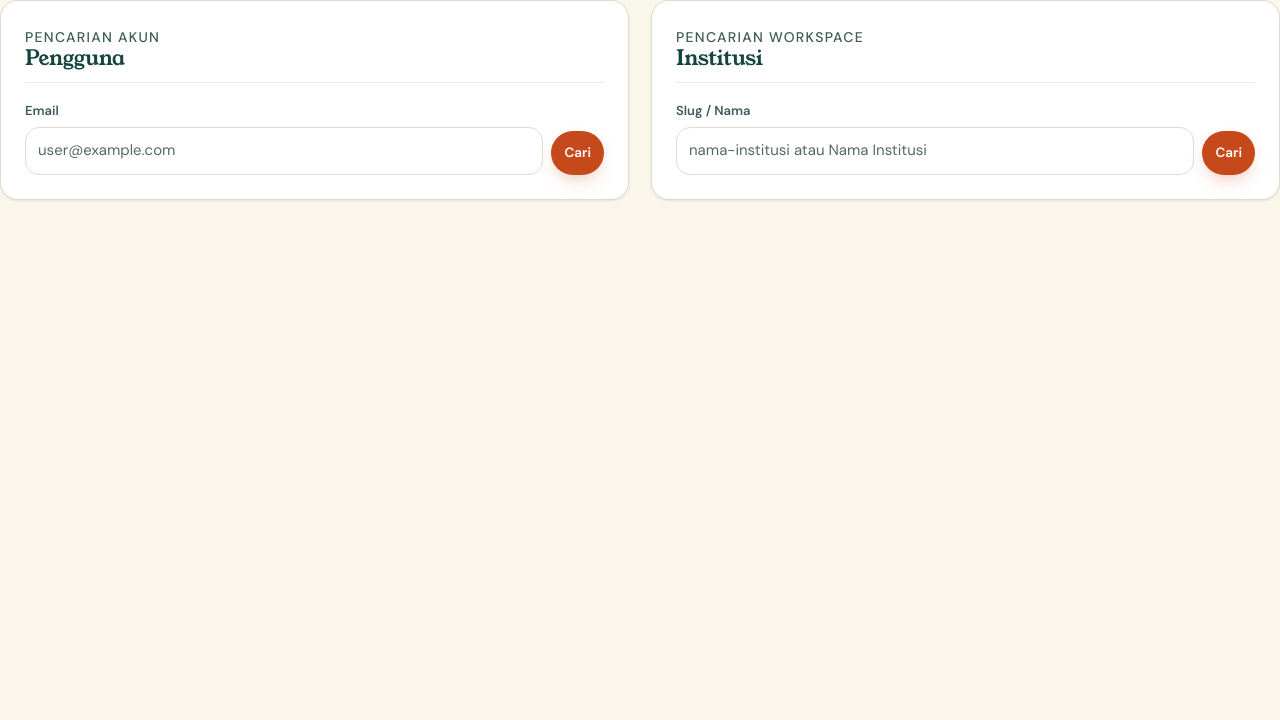
what the user panel offers › offers no de-identification on an internal ops account
The width and height of the screenshot is (1280, 720).
Type "target@example.test" into the field labelled "Email". click: (284, 151)
box: [25,127,543,175]
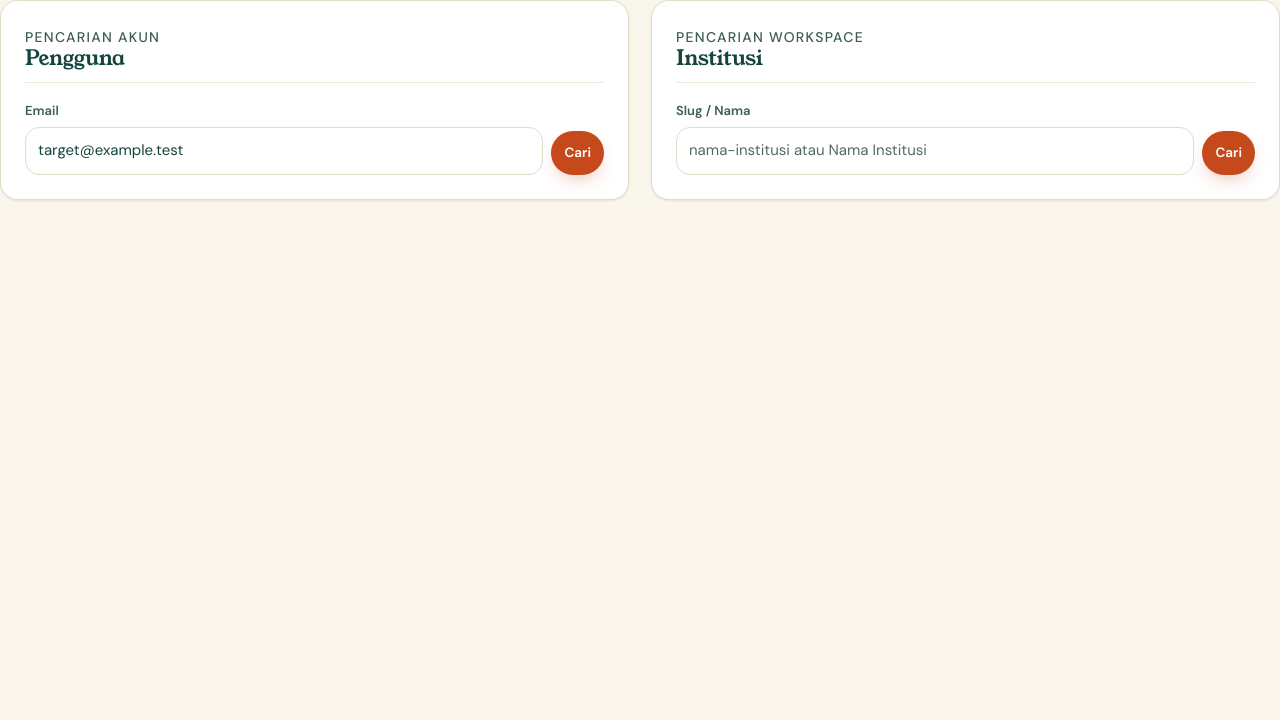
Click the 1st button "Cari". click: click(578, 153)
box: [551,131,604,175]
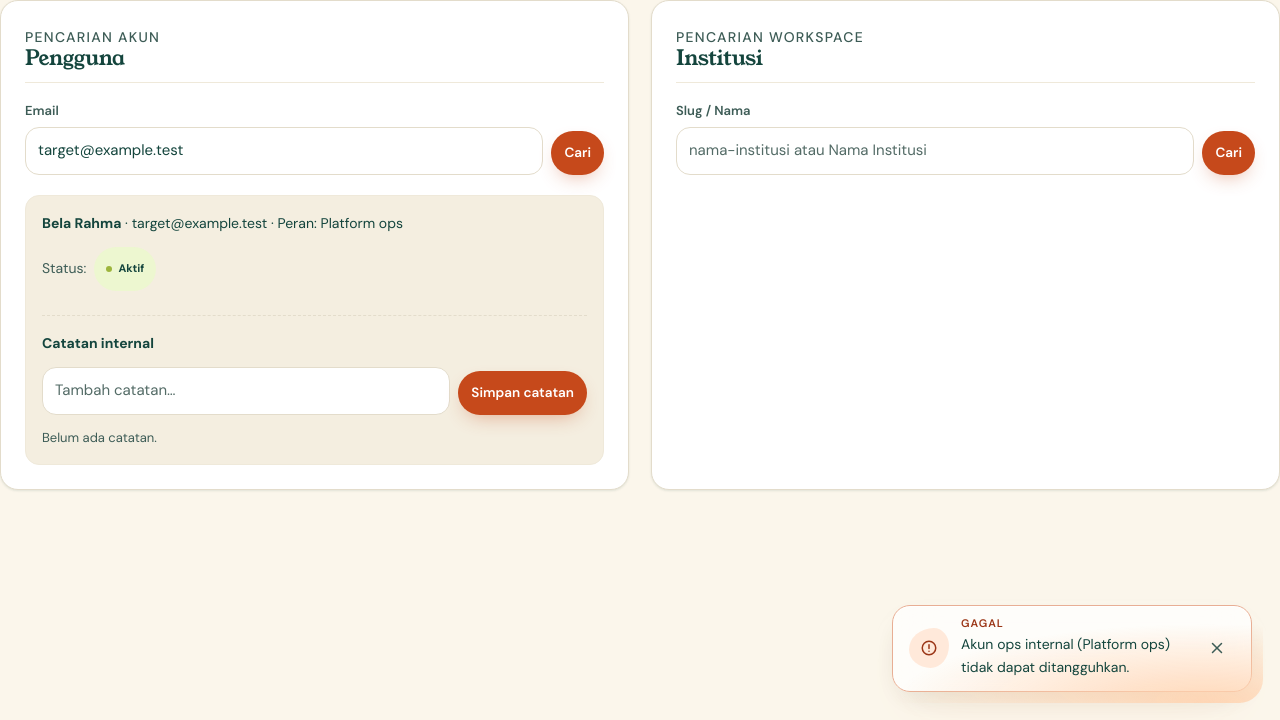
Now the text "Bela Rahma" is shown, box [42,214,121,232]
